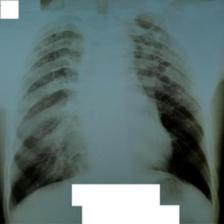tuberculosis: (7, 12, 216, 210)
